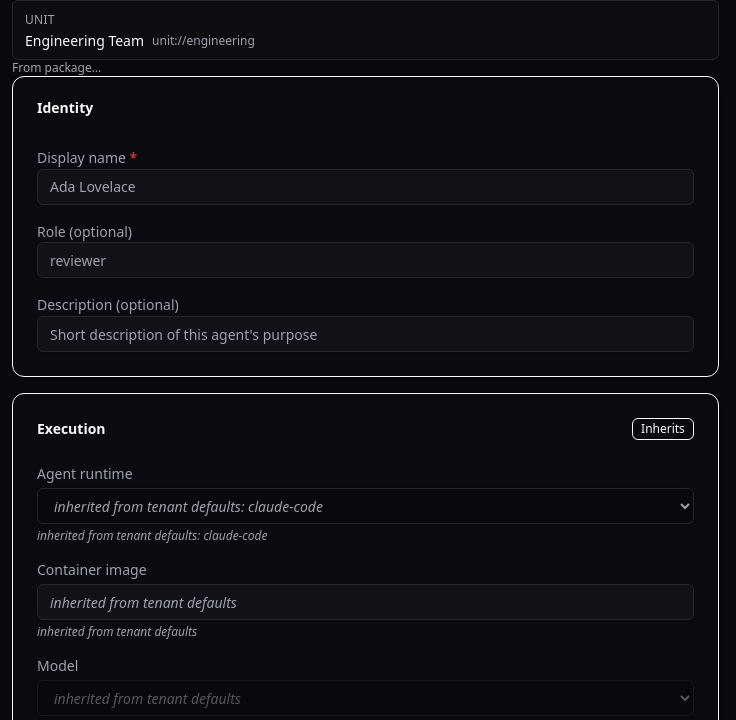
Test: AgentCreateDialog — J1 shell › opens the from-package branch when the footer link is clicked
Click the button with test id "agent-create-dialog-from-package-link": [57, 68] box x1=12 y1=60 x2=101 y2=76
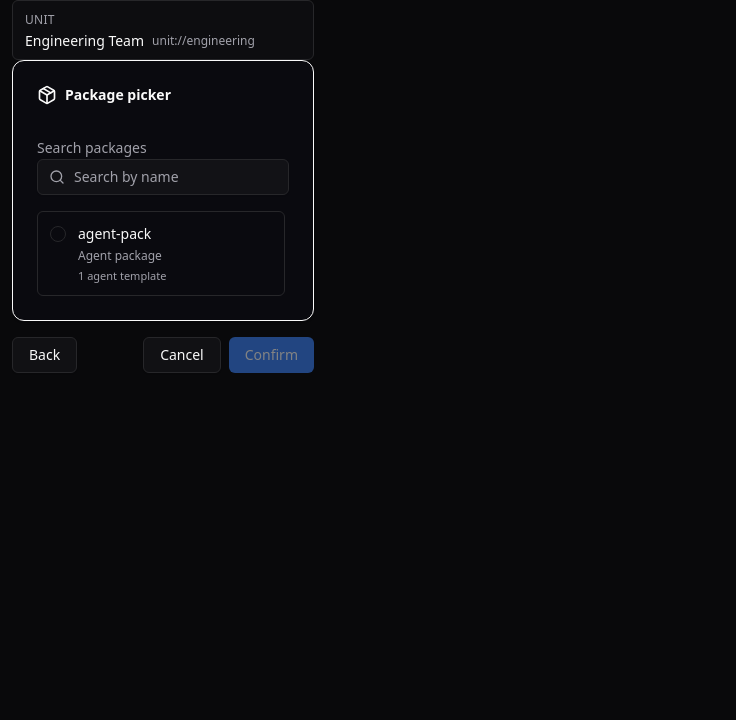
Check: the element with test id "package-picker-list" is shown, box x1=37 y1=211 x2=289 y2=296
Check: the button with test id "agent-create-dialog-from-package-link" is gone
